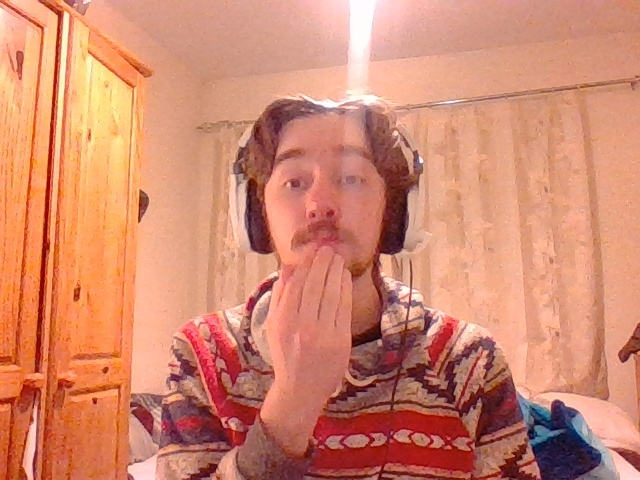thanks: (263, 243, 350, 413)
